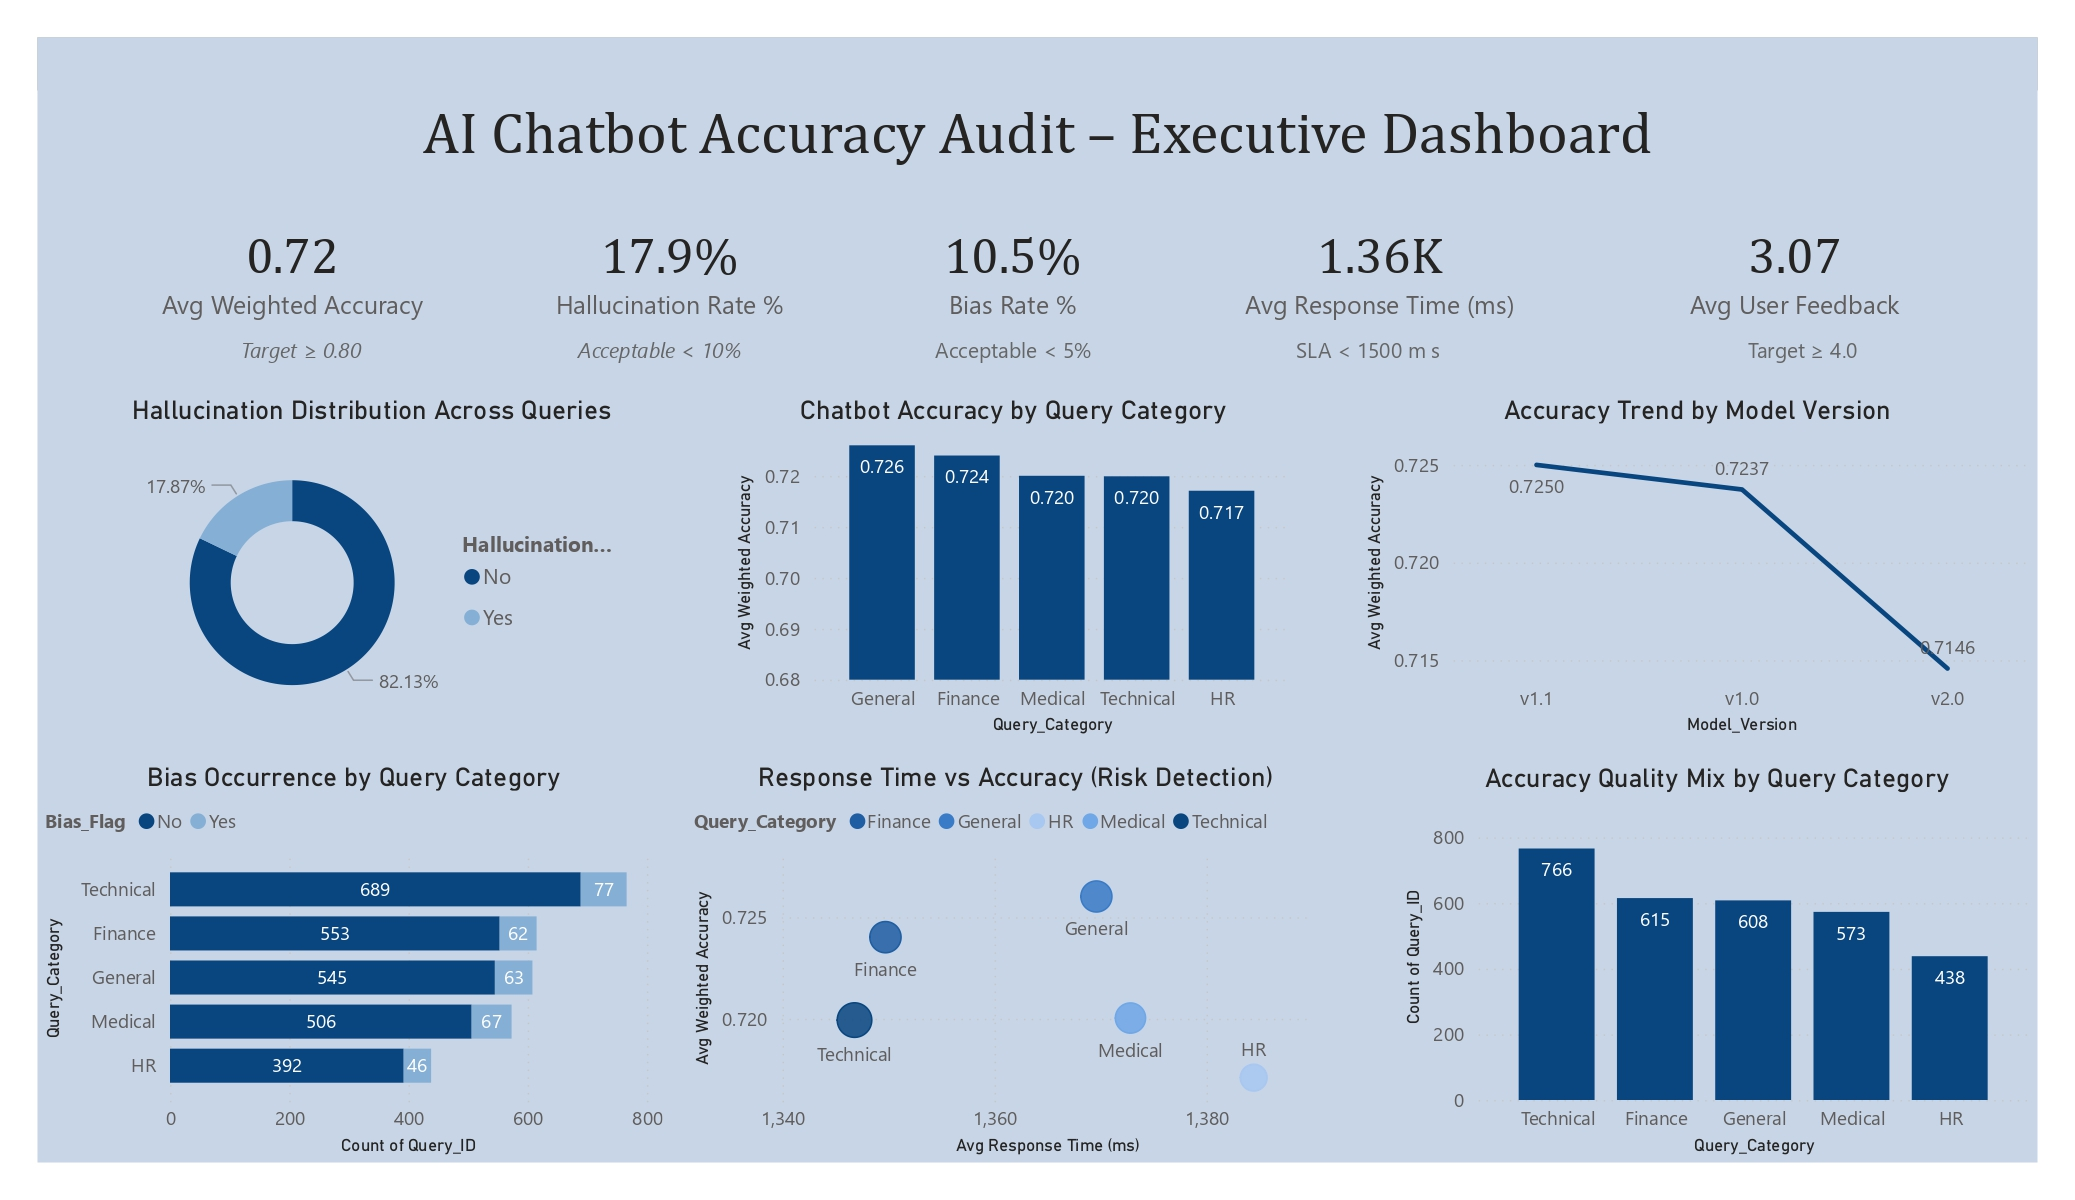

The page's visual inventory and layout, read from the dashboard file:
{"tool":"powerbi","page":{"name":"Page 1","canvas":[1280,720],"ordinal":0},"visuals":[{"type":"cardVisual","fields":{"Data":["AI_Chatbot_Accuracy_Audit_Dataset.Hallucination Rate %"]},"box":[300.4,101.3,209.9,100.1],"z":0},{"type":"cardVisual","fields":{"Data":["AI_Chatbot_Accuracy_Audit_Dataset.Bias Rate %"]},"box":[545.3,101.3,158,100.1],"z":1},{"type":"cardVisual","fields":{"Data":["AI_Chatbot_Accuracy_Audit_Dataset.Avg Response Time (ms)"]},"box":[743.2,101.3,232.8,100.1],"z":2},{"type":"cardVisual","fields":{"Data":["AI_Chatbot_Accuracy_Audit_Dataset.Avg User Feedback"]},"box":[1027.9,101.3,193,100.1],"z":3},{"type":"cardVisual","fields":{"Data":["AI_Chatbot_Accuracy_Audit_Dataset.Avg Weighted Accuracy"]},"box":[49.5,101.3,228,100.1],"z":4},{"type":"clusteredColumnChart","title":"Chatbot Accuracy by Query Category","fields":{"Category":["AI_Chatbot_Accuracy_Audit_Dataset.Query_Category"],"Y":["AI_Chatbot_Accuracy_Audit_Dataset.Avg Weighted Accuracy"]},"box":[441.6,228,365.6,223.2],"z":5},{"type":"donutChart","title":"Hallucination Distribution Across Queries","fields":{"Category":["AI_Chatbot_Accuracy_Audit_Dataset.Hallucination_Flag"],"Y":["CountNonNull(AI_Chatbot_Accuracy_Audit_Dataset.Query_ID)"]},"box":[49.5,228,329.4,223.2],"z":6},{"type":"lineChart","title":"Accuracy Trend by Model Version","fields":{"Category":["AI_Chatbot_Accuracy_Audit_Dataset.Model_Version"],"Y":["AI_Chatbot_Accuracy_Audit_Dataset.Avg Weighted Accuracy"]},"box":[844.5,228,435.5,223.2],"z":7},{"type":"barChart","title":"Bias Occurrence by Query Category","fields":{"Category":["AI_Chatbot_Accuracy_Audit_Dataset.Query_Category"],"Y":["CountNonNull(AI_Chatbot_Accuracy_Audit_Dataset.Query_ID)"],"Series":["AI_Chatbot_Accuracy_Audit_Dataset.Bias_Flag"]},"box":[0,463.3,405.4,257],"z":8},{"type":"scatterChart","title":"Response Time vs Accuracy (Risk Detection)","fields":{"X":["AI_Chatbot_Accuracy_Audit_Dataset.Avg Response Time (ms)"],"Y":["AI_Chatbot_Accuracy_Audit_Dataset.Avg Weighted Accuracy"],"Size":["CountNonNull(AI_Chatbot_Accuracy_Audit_Dataset.Query_ID)"],"Series":["AI_Chatbot_Accuracy_Audit_Dataset.Query_Category"]},"box":[415,463.3,421,257],"z":9},{"type":"textbox","box":[0,34.3,1280.3,56.3],"z":10},{"type":"clusteredColumnChart","title":"Accuracy Quality Mix by Query Category","fields":{"Category":["AI_Chatbot_Accuracy_Audit_Dataset.Query_Category"],"Y":["CountNonNull(AI_Chatbot_Accuracy_Audit_Dataset.Query_ID)"]},"box":[870,464,410,256],"z":11},{"type":"textbox","box":[12.1,185.8,1268,42.2],"z":12}]}

Visuals, with their boxes on the page's 1280x720 design canvas (x1, y1, x2, y2). These are canvas units, not pixel positions in the 2075x1200 screenshot, which may show the page scaled, cropped or inside an application window:
cardVisual - AI_Chatbot_Accuracy_Audit_Dataset.Hallucination Rate %: [300,101,510,201]
cardVisual - AI_Chatbot_Accuracy_Audit_Dataset.Bias Rate %: [545,101,703,201]
cardVisual - AI_Chatbot_Accuracy_Audit_Dataset.Avg Response Time (ms): [743,101,976,201]
cardVisual - AI_Chatbot_Accuracy_Audit_Dataset.Avg User Feedback: [1028,101,1221,201]
cardVisual - AI_Chatbot_Accuracy_Audit_Dataset.Avg Weighted Accuracy: [50,101,278,201]
"Chatbot Accuracy by Query Category" clusteredColumnChart: [442,228,807,451]
"Hallucination Distribution Across Queries" donutChart: [50,228,379,451]
"Accuracy Trend by Model Version" lineChart: [844,228,1280,451]
"Bias Occurrence by Query Category" barChart: [0,463,405,720]
"Response Time vs Accuracy (Risk Detection)" scatterChart: [415,463,836,720]
textbox: [0,34,1280,91]
"Accuracy Quality Mix by Query Category" clusteredColumnChart: [870,464,1280,720]
textbox: [12,186,1280,228]
